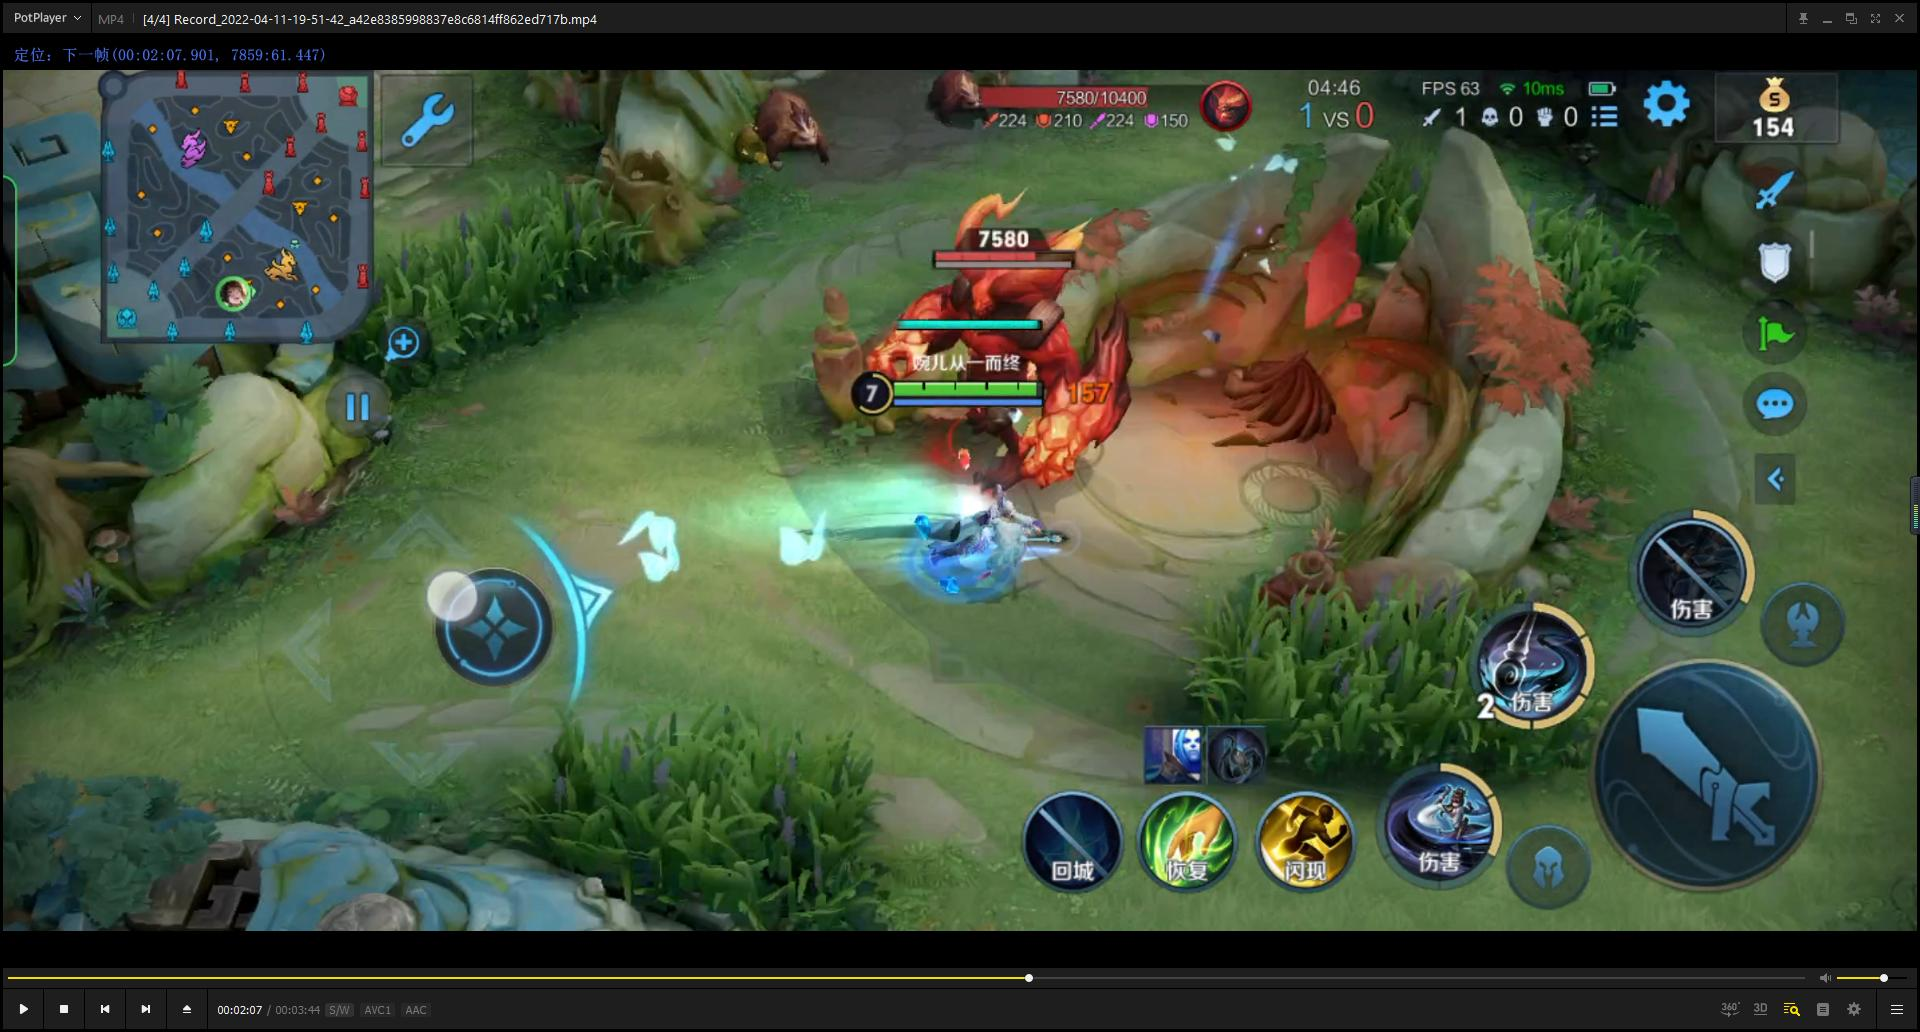Buff: (848, 203, 1149, 519)
Hero: (881, 459, 1067, 618)
Pig: (740, 72, 856, 178), (909, 62, 996, 141)
